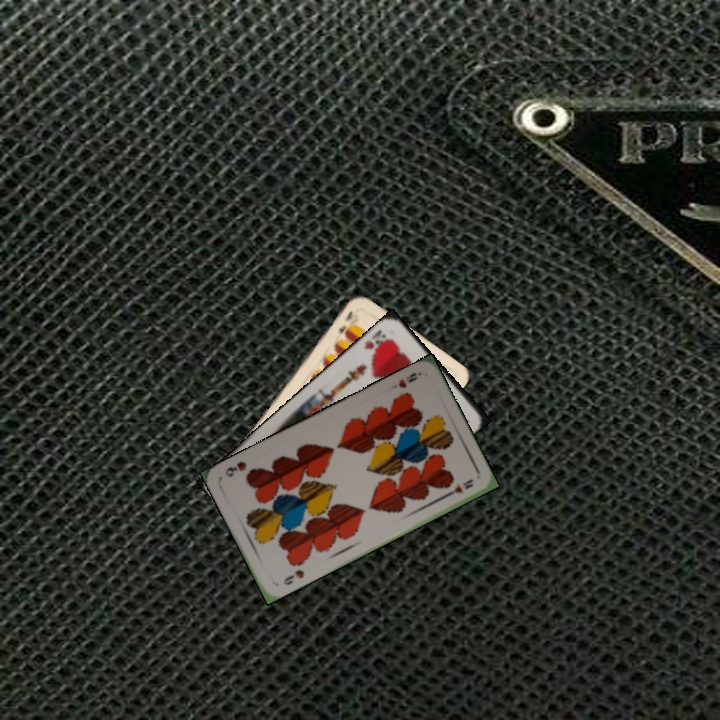E10: (335, 307, 355, 337)
H9: (394, 368, 424, 390), (279, 566, 307, 588)
HK: (360, 326, 394, 358)
